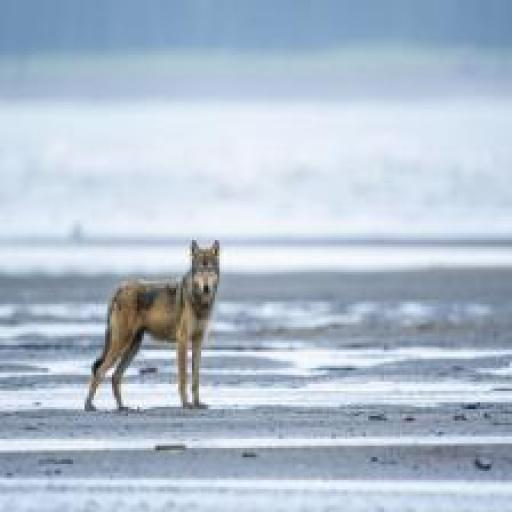wolf: (84, 228, 230, 438)
